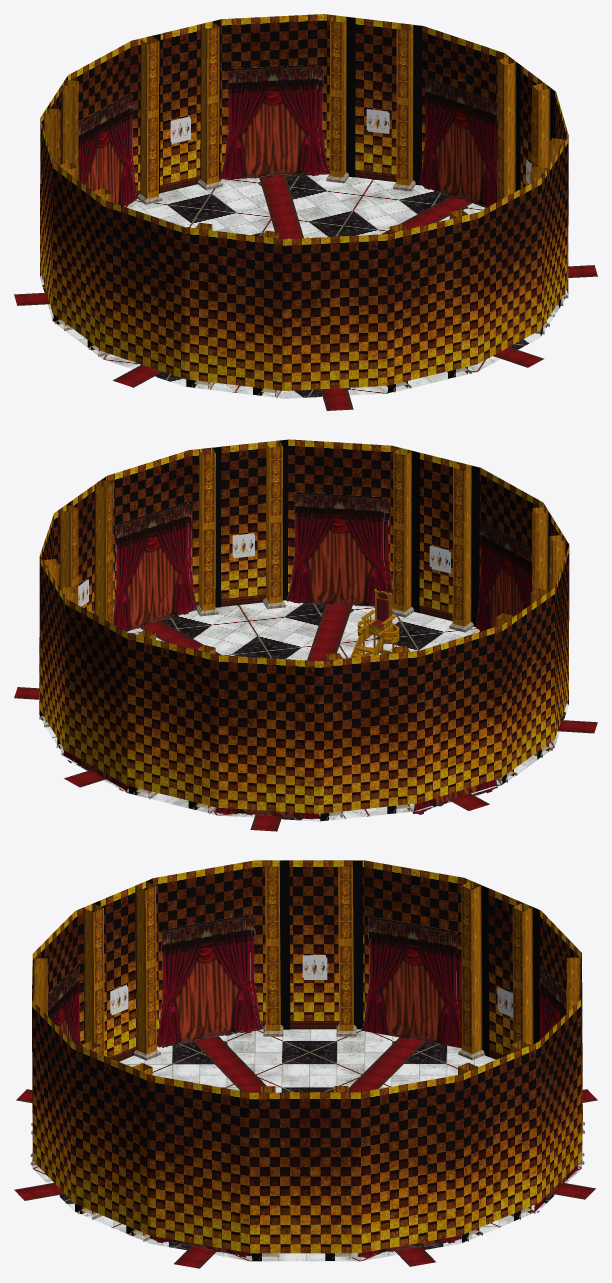
Rendered from courtroom.obj.
3 renders of one model, top to bottom at view 1: azimuth 30°, elevation 25°; view 2: azimuth 150°, elevation 25°; view 3: azimuth 270°, elevation 25°, orthographic. The views are drawn at different scales.
Parts seen in each view (by area): view 1: Object; view 2: Object; view 3: Object.
Boxes of the visible parts, x1,y1,x2,y2 form: Object: [14, 14, 597, 410]; Object: [14, 439, 597, 831]; Object: [14, 860, 597, 1268].
Size of the model in its own units: 282 by 93.14 by 281.
Materials: 14 (14 with a texture image).
